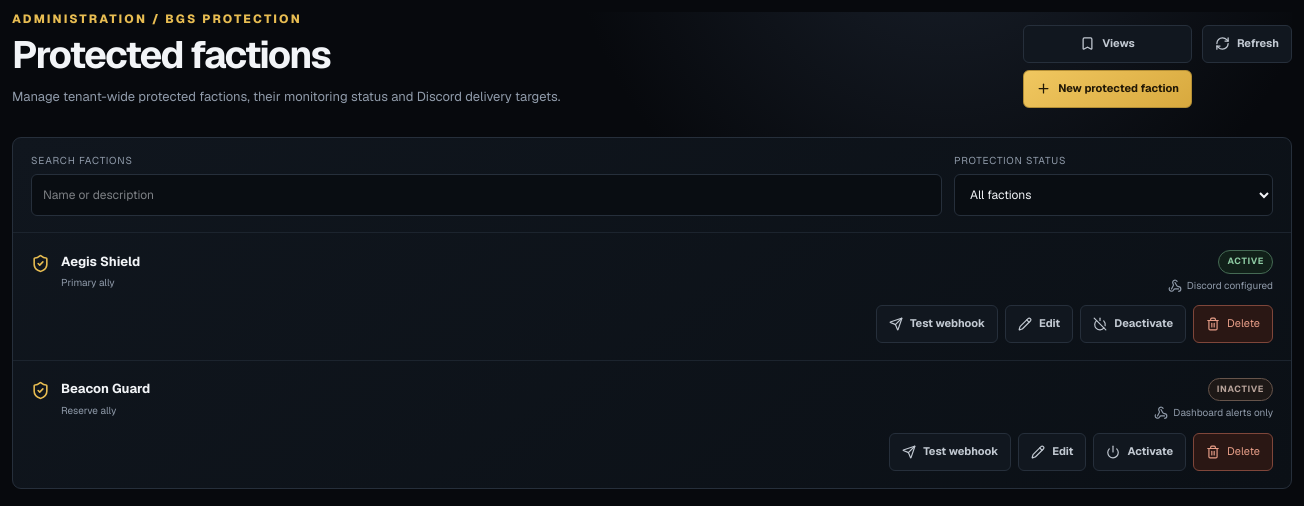
Test case: protected faction administration › lists, searches and filters active and inactive factions
Expected: the text "Aegis Shield" is shown, [61,253,140,271]
Expected: the text "Beacon Guard" is shown, [61,380,150,399]
Type "reserve" into the search field labelled "Search factions".
click(487, 196); type("reserve")  # box [31,174,942,216]
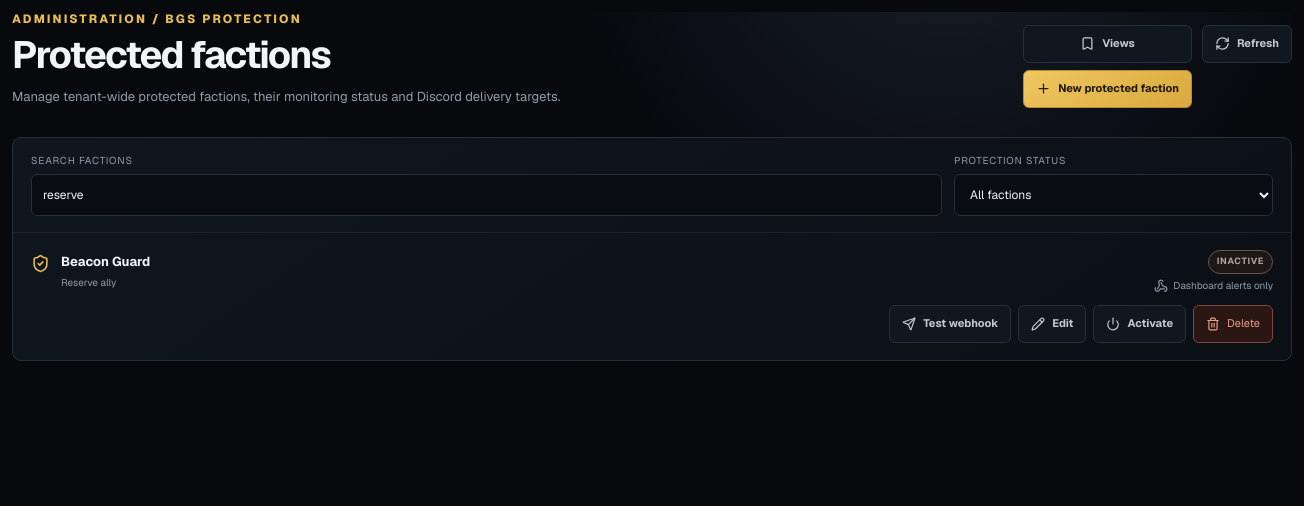
Expected: the text "Beacon Guard" is shown, [61,253,150,271]
Result: the text "Aegis Shield" is gone
Clear the search field labelled "Search factions" at (487, 196), box [31,174,942,216]
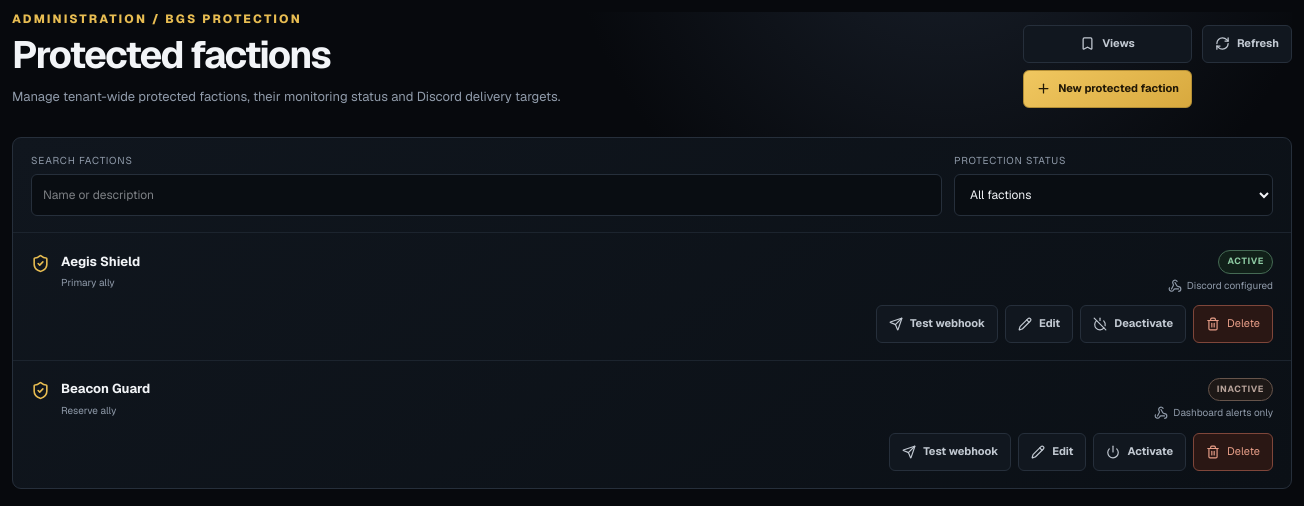
Select "Active only" in the dropdown labelled "Protection status" at (1114, 196), box [954,174,1273,216]
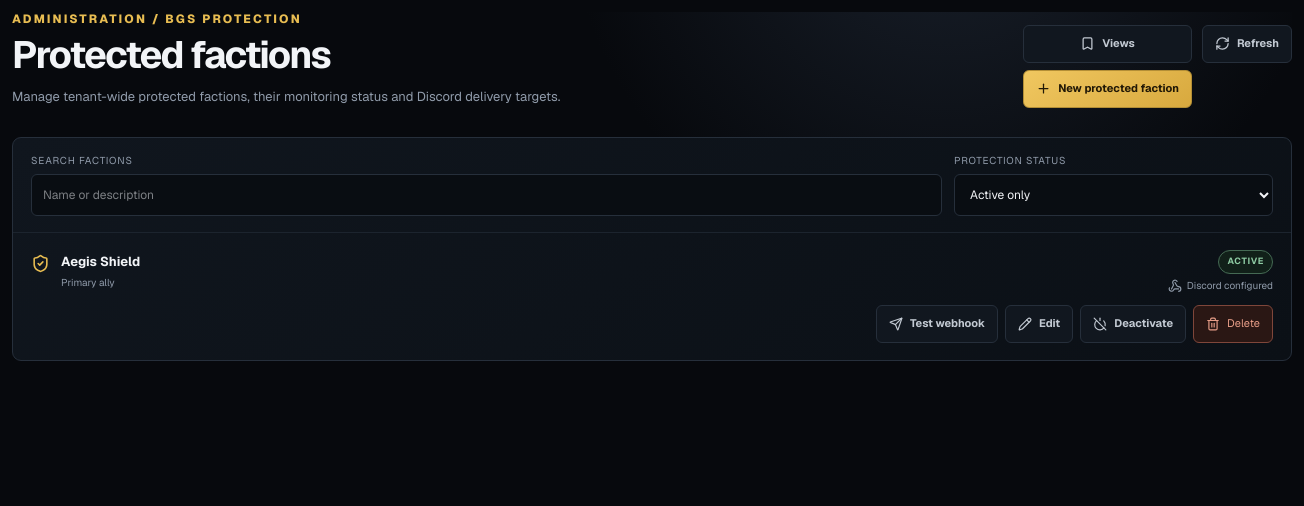
Result: the text "Aegis Shield" is shown at [61,253,140,271]
Result: the text "Beacon Guard" is gone
